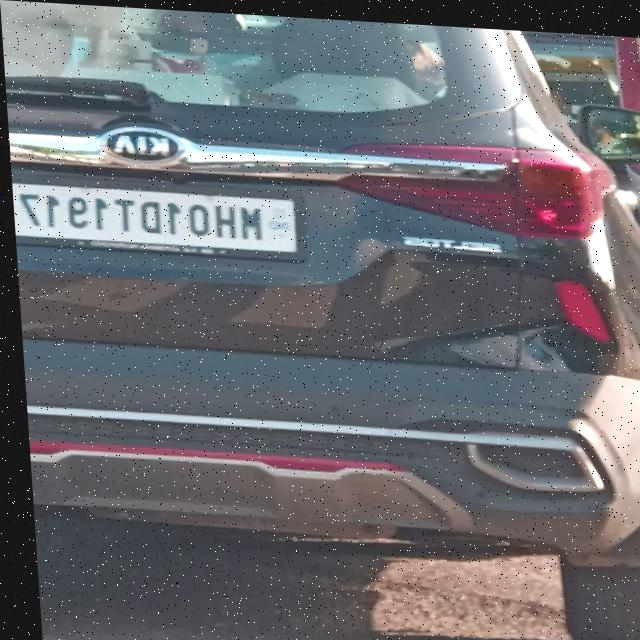plate: (10, 178, 302, 255)
